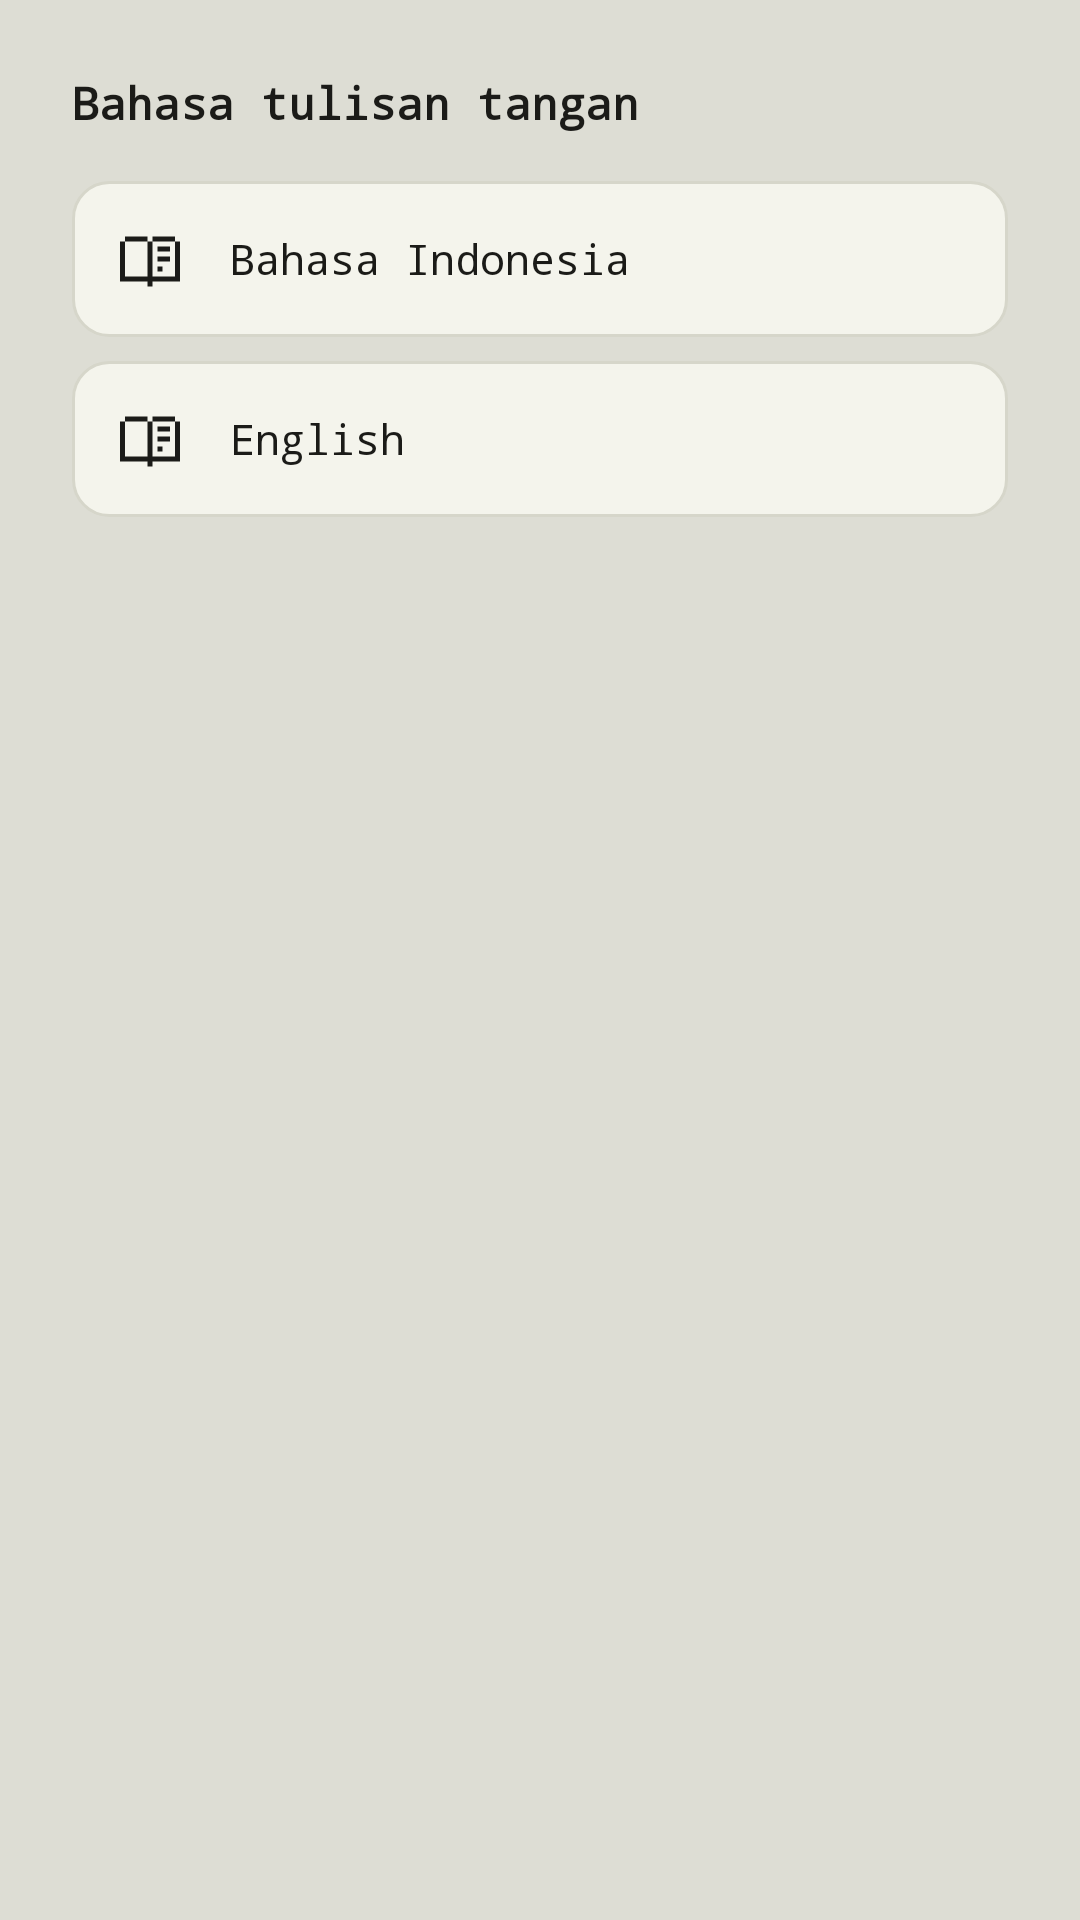

Named icons in this screenshot (1080×1920) and their bounding boxes, (x1, y1, x2, y2):
pi book open: (120, 236, 180, 287), (120, 416, 180, 467)
